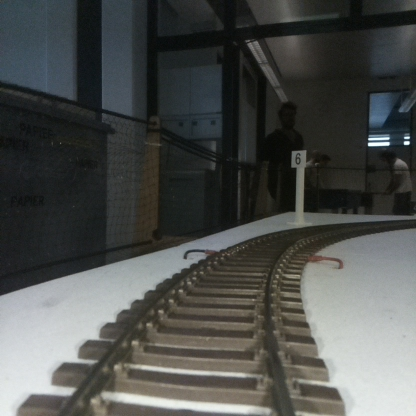white-info-6: (291, 149, 306, 225)
